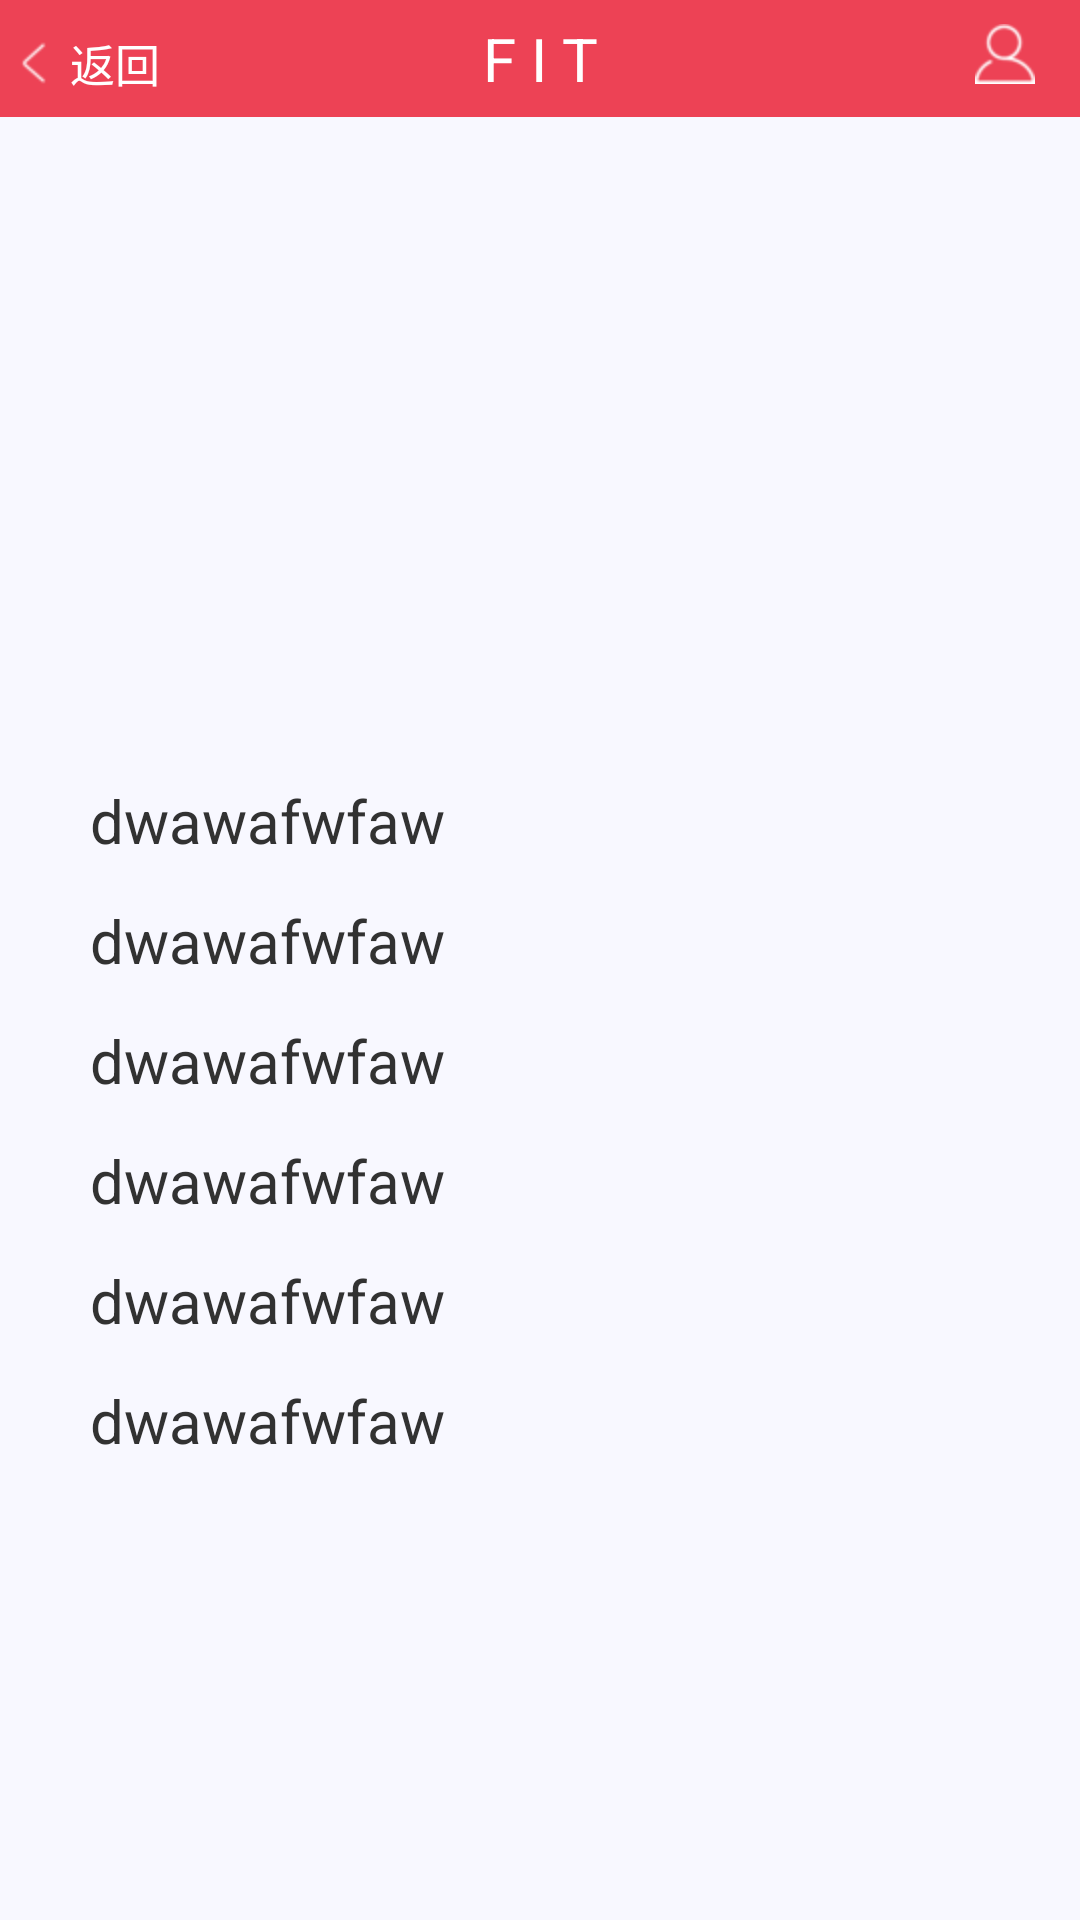

Locate icon controls on the screen. Image size 1080x1920, boxes as (x1, y1, x2, y2).
user: (975, 24, 1035, 84)
